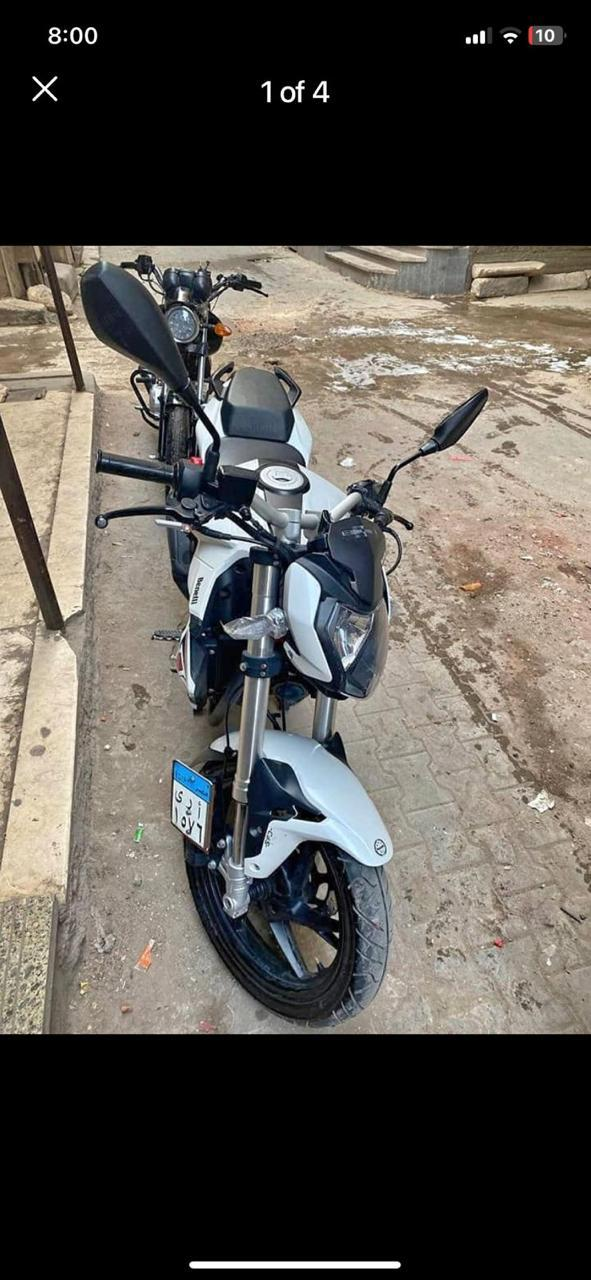License Plate: (166, 758, 213, 849)
